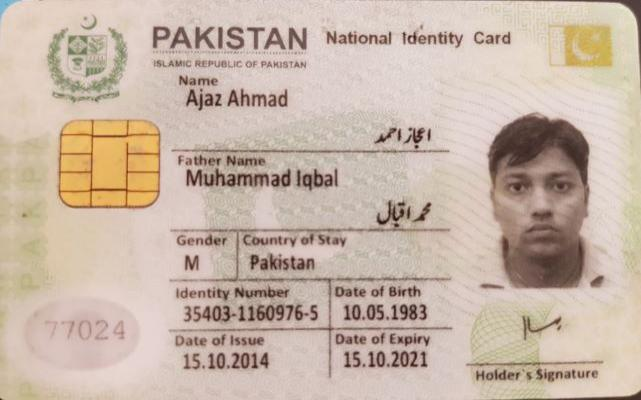fname: (184, 166, 342, 194)
name: (182, 85, 293, 111)
number: (180, 302, 324, 326)
